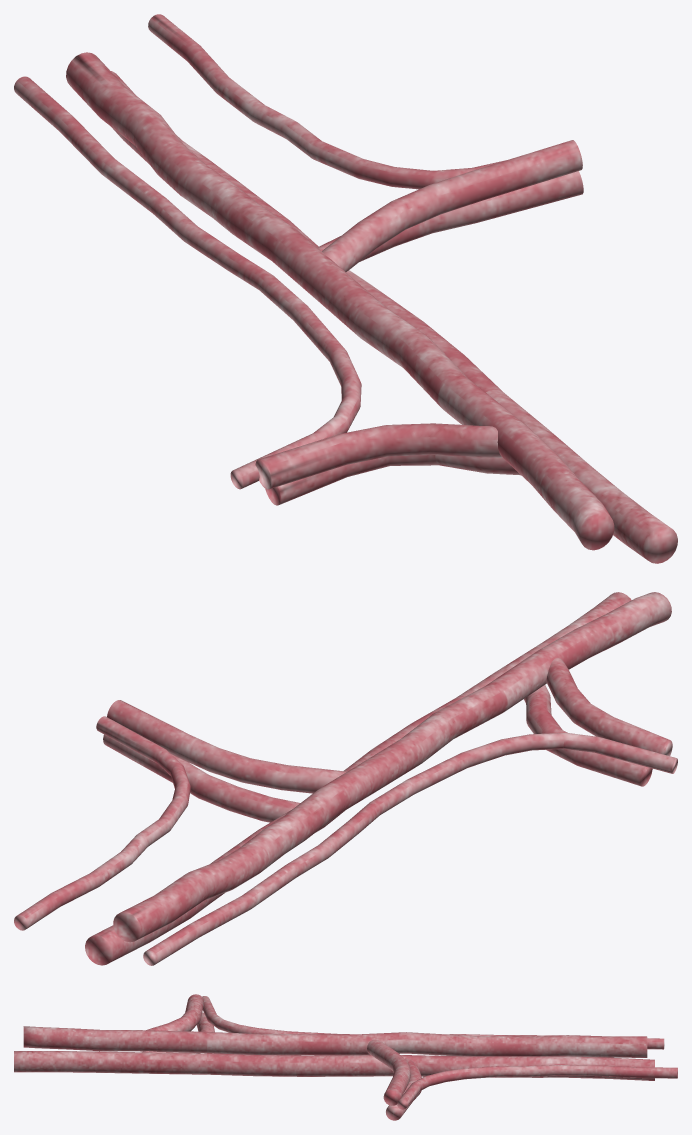
Rendered from kidney_strings.glb.
The picture shows the model from 3 angles, top to bottom: view 1: azimuth 30°, elevation 25°; view 2: azimuth 150°, elevation 25°; view 3: azimuth 270°, elevation 25°; orthographic projection. The views are drawn at different scales.
Visible parts, largest first — view 1: polySurface10; view 2: polySurface10; view 3: polySurface10.
Part boxes in pixels (x1,y1,x2,y2): polySurface10: (14, 14, 677, 563); polySurface10: (14, 592, 677, 965); polySurface10: (14, 994, 677, 1120).
Bounding box in the file's own units: 48.92 × 10.5 × 100.
1 material, 1 textured.
